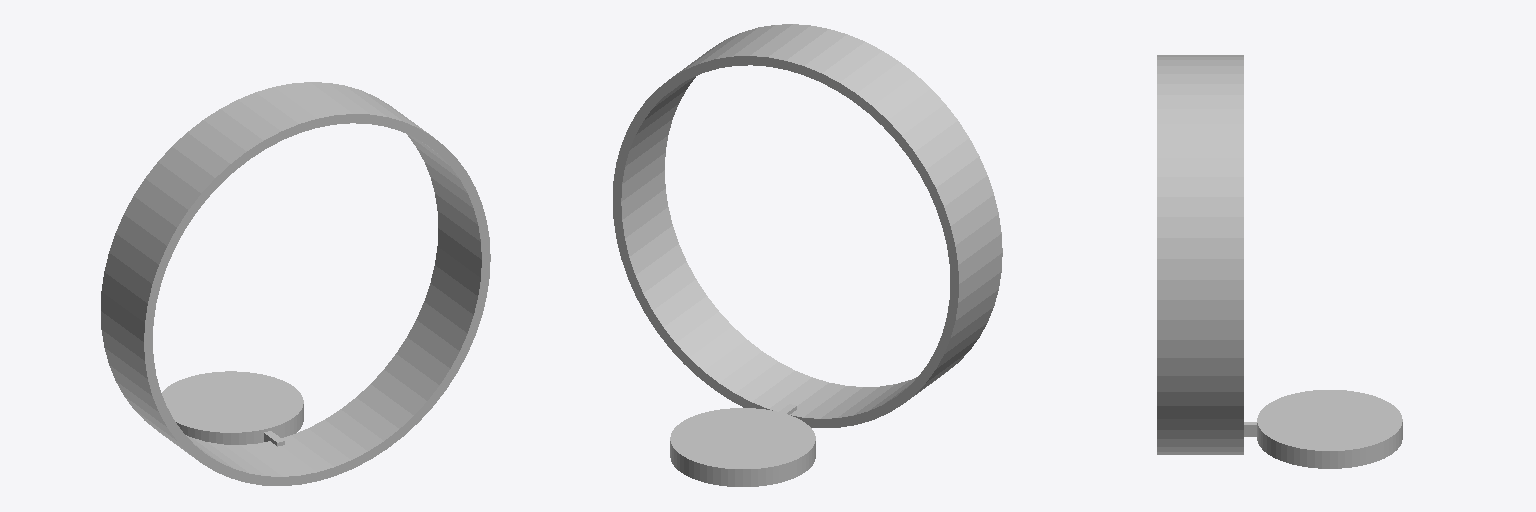
Rendered from GoodBoy.obj.
3 renders of one model, left to right at view 1: azimuth 30°, elevation 25°; view 2: azimuth 150°, elevation 25°; view 3: azimuth 270°, elevation 25°, orthographic.
Parts seen in each view (by area): view 1: Cylinder; view 2: Cylinder; view 3: Cylinder.
Part boxes in pixels (bbox=[...]): Cylinder: bbox=[101, 82, 490, 485]; Cylinder: bbox=[613, 24, 1002, 486]; Cylinder: bbox=[1157, 55, 1402, 468].
Bounding box in the file's own units: 60 × 60.26 × 36.79.